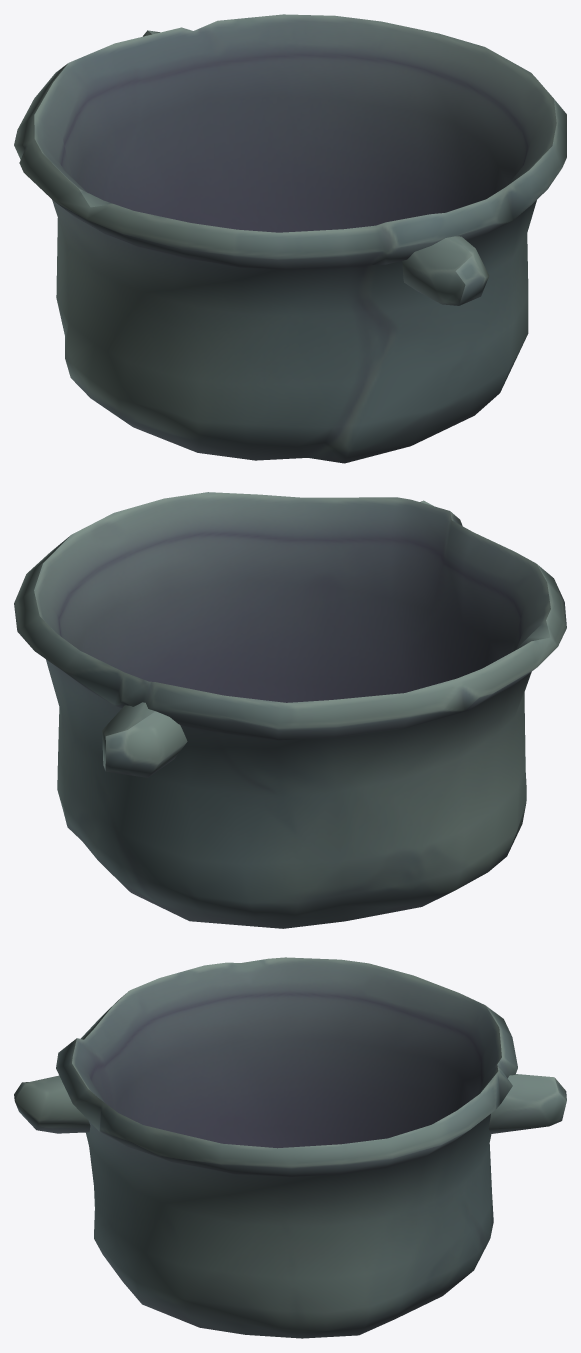
Rendered from SM_FW01_CampProp_Pot_B_01.fbx.
3 views of the same model, one above another, from view 1: azimuth 30°, elevation 25°; view 2: azimuth 150°, elevation 25°; view 3: azimuth 270°, elevation 25° (orthographic). The views are drawn at different scales.
Parts seen in each view (by area): view 1: SM_FW01_CampProp_Pot_B_01_LOD0; view 2: SM_FW01_CampProp_Pot_B_01_LOD0; view 3: SM_FW01_CampProp_Pot_B_01_LOD0.
Part boxes in pixels (x1=…): SM_FW01_CampProp_Pot_B_01_LOD0: x1=14, y1=14, x2=566, y2=463; SM_FW01_CampProp_Pot_B_01_LOD0: x1=14, y1=492, x2=566, y2=928; SM_FW01_CampProp_Pot_B_01_LOD0: x1=14, y1=957, x2=566, y2=1338.
Size of what is drawn, in the model's own units: 0.7379 by 0.3743 by 0.856.
